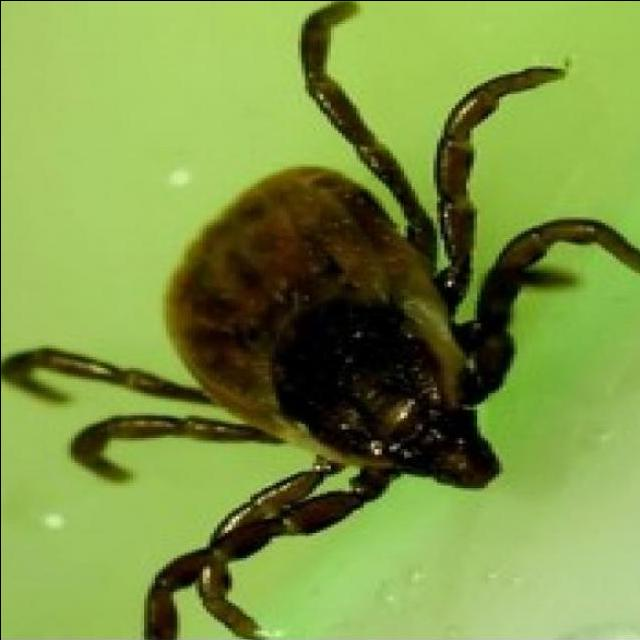Rhipicephalus Sanguineus-F: (0, 7, 640, 640)
